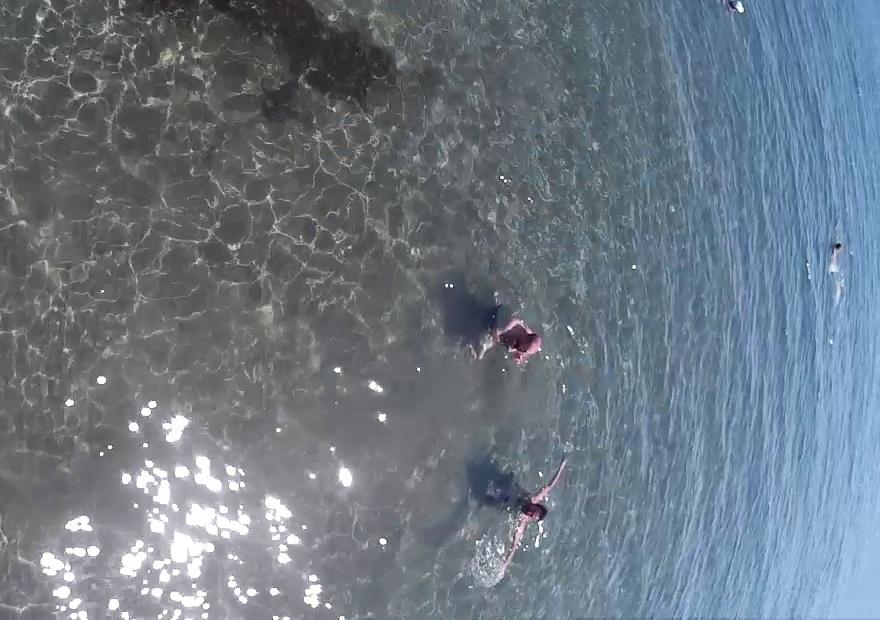human: (485, 448, 566, 589), (476, 292, 540, 376), (710, 0, 748, 23)
